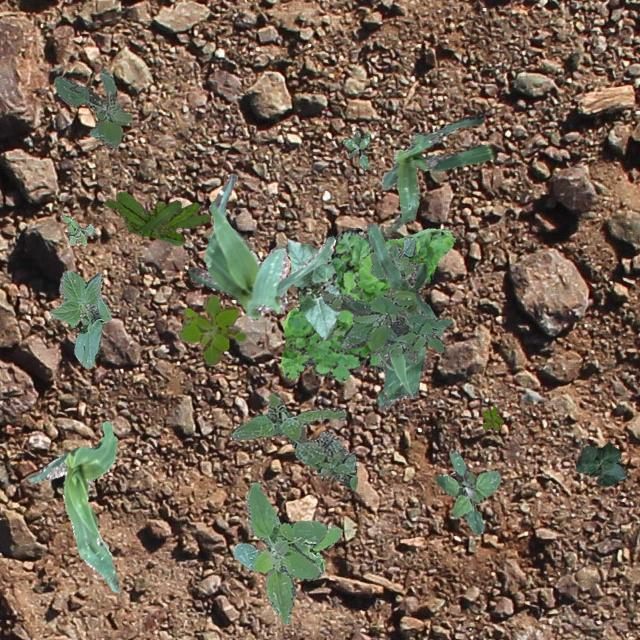crop: (188, 172, 334, 320), (28, 420, 120, 592), (366, 222, 442, 410), (380, 113, 494, 230), (48, 270, 110, 368), (284, 238, 340, 340), (576, 440, 626, 484)
weed: (280, 227, 453, 381), (232, 482, 326, 622), (230, 390, 356, 490), (321, 290, 452, 362), (52, 68, 130, 146), (102, 190, 210, 244), (434, 448, 500, 534), (177, 292, 244, 363), (369, 236, 416, 278), (300, 524, 342, 570), (60, 213, 94, 244), (342, 130, 369, 168), (482, 406, 502, 428)
